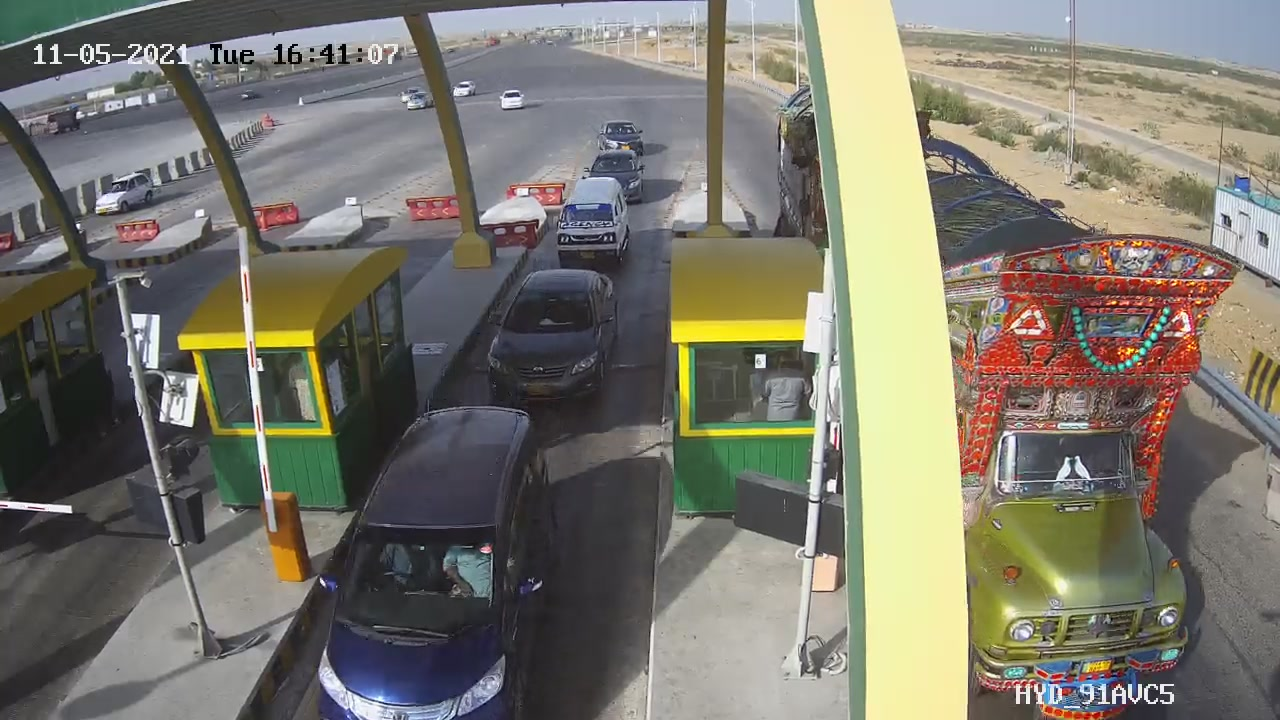F1: (472, 256, 637, 420), (545, 167, 646, 279)
